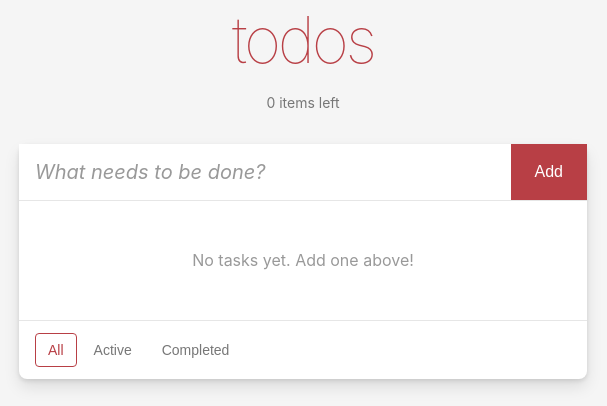
TodoApp › adds a todo and updates the count
Type "Buy milk" into the field named "New todo". click: (265, 172)
box: [19, 144, 510, 200]
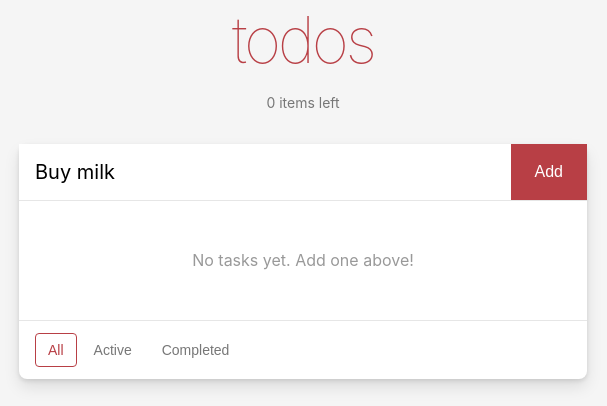
Press Enter in the field named "New todo", box [19, 144, 510, 200]
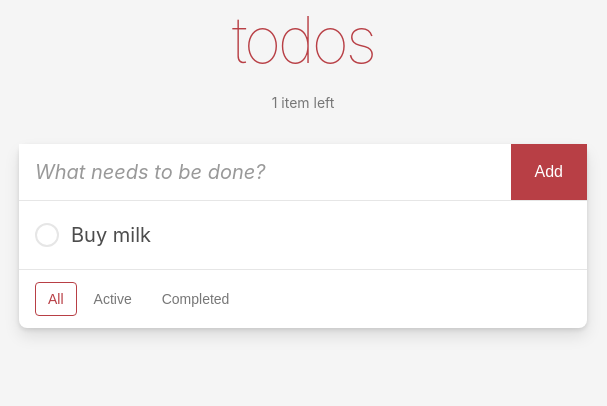
Expected: the text "Buy milk" is shown, [71, 221, 151, 249]
Expected: the text "1 item left" is shown, [272, 94, 334, 111]
Expected: the text "No tasks yet" is gone
